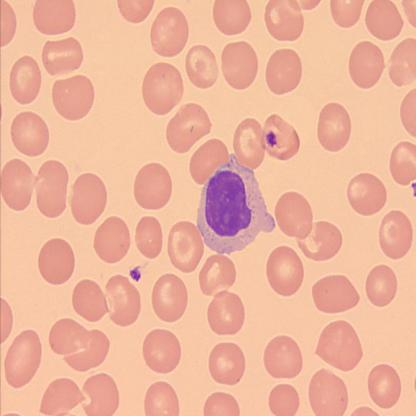Lymphocyte: (196, 152, 276, 254)
